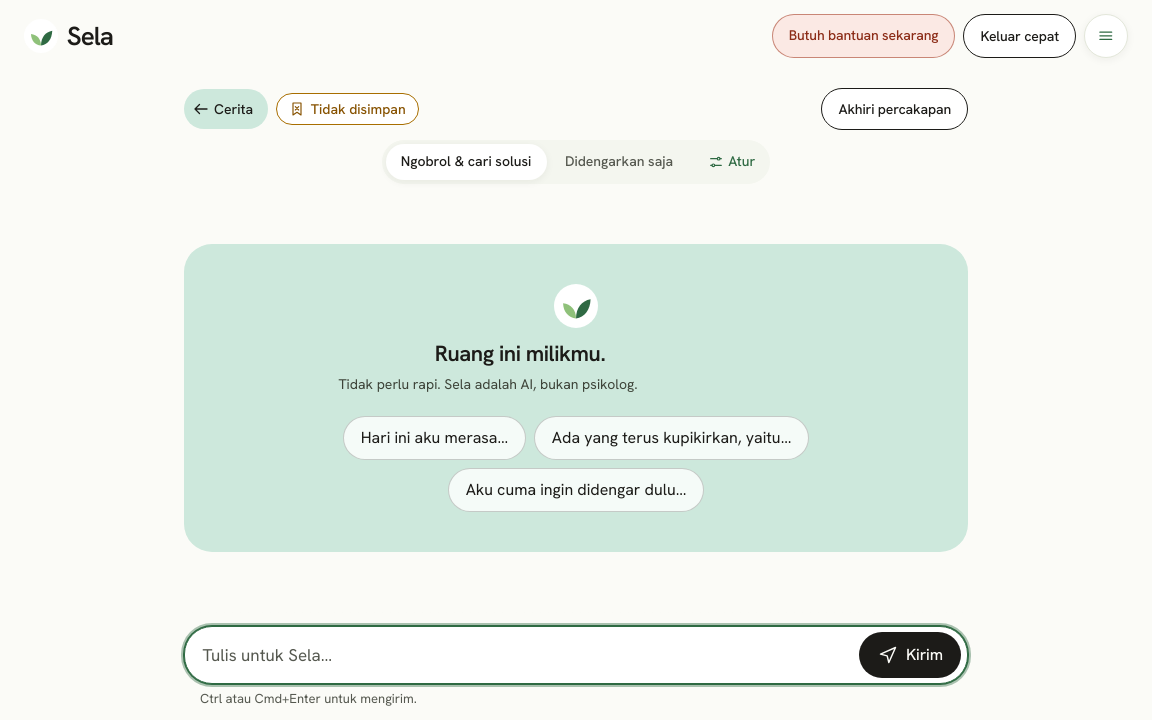
Test: home, notes and conversations › sends a message and names the generator on the released reply
Type "Aku merasa berat hari ini." into the text box labelled "Tulis untuk Sela" at (522, 655), box [191, 633, 853, 678]
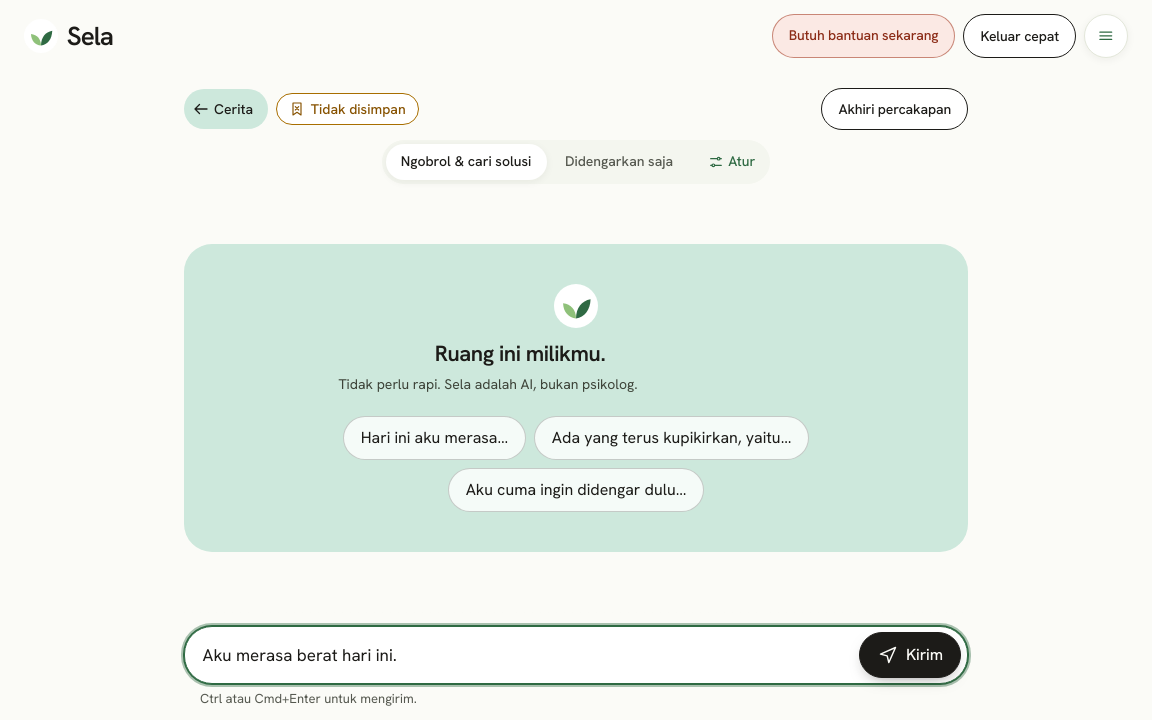
Click the button "Kirim" at (910, 655), box [859, 632, 961, 678]
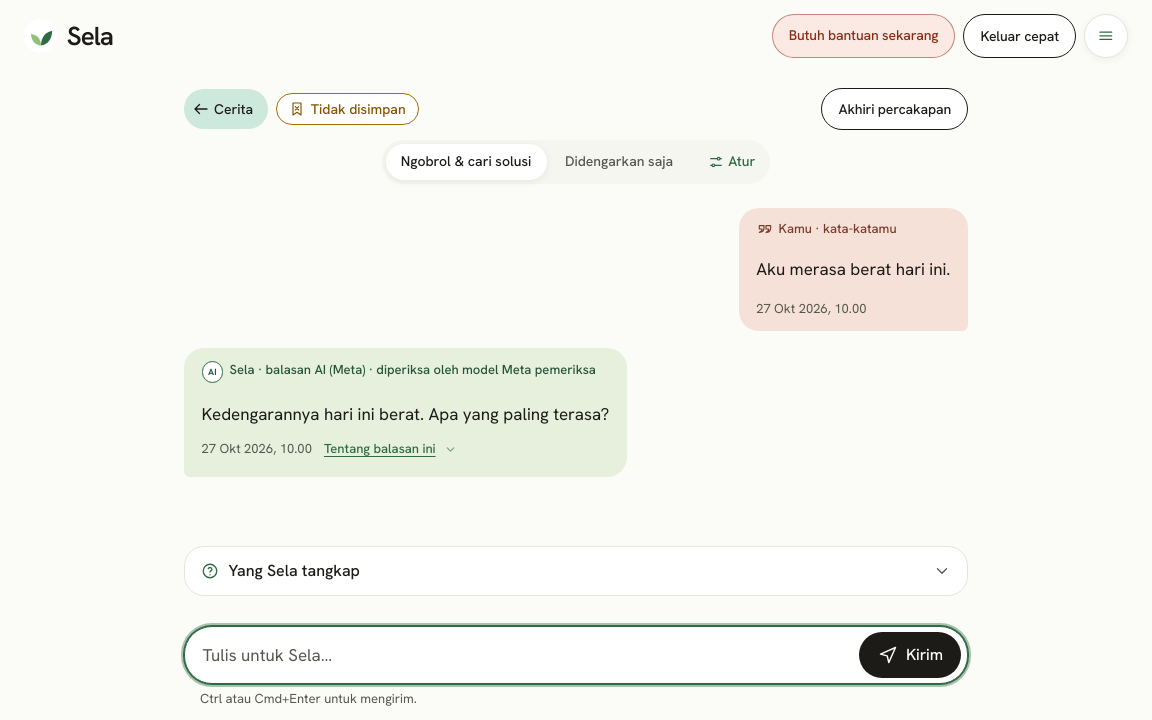
Result: the text "Kedengarannya hari ini berat. Apa yang paling terasa?" is shown at [202, 401, 609, 428]
Result: the text "Sela · balasan AI (Meta) · diperiksa oleh model Meta pemeriksa" is shown at [230, 361, 596, 379]
